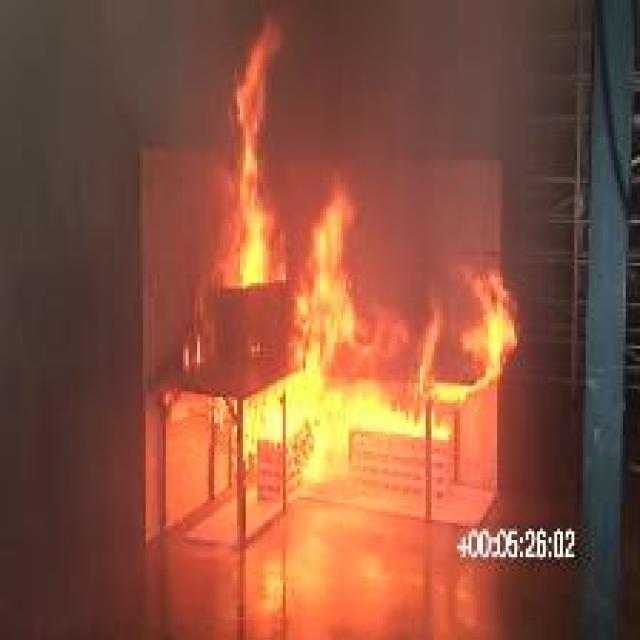Fire: (210, 188, 516, 486), (224, 16, 287, 284)
